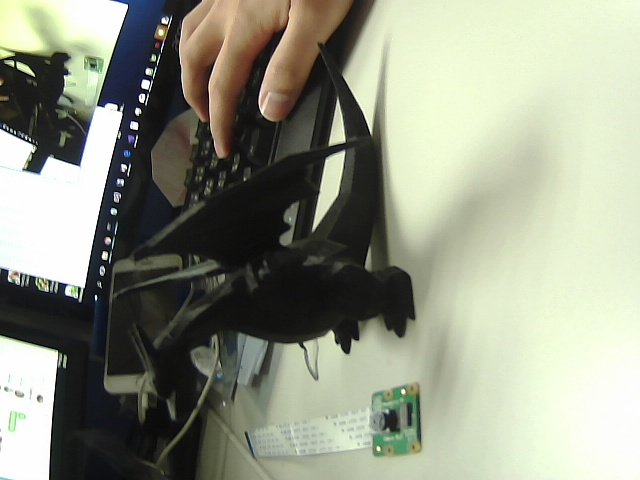charizard: (96, 34, 474, 443)
